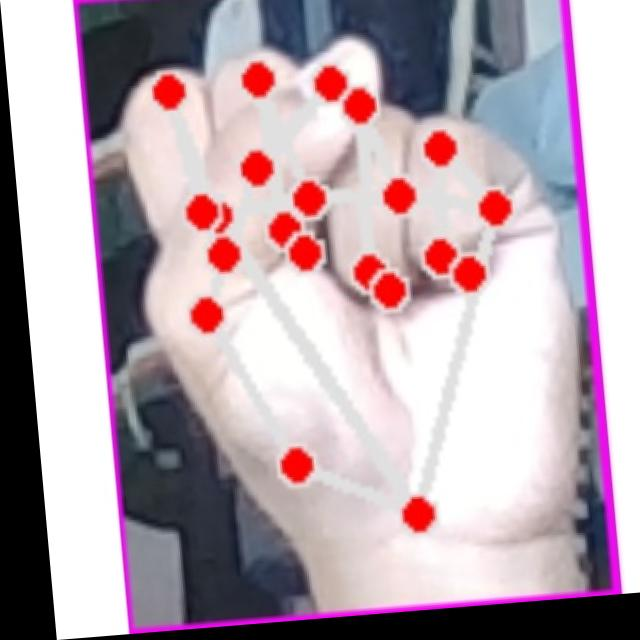S: (106, 17, 580, 572)
